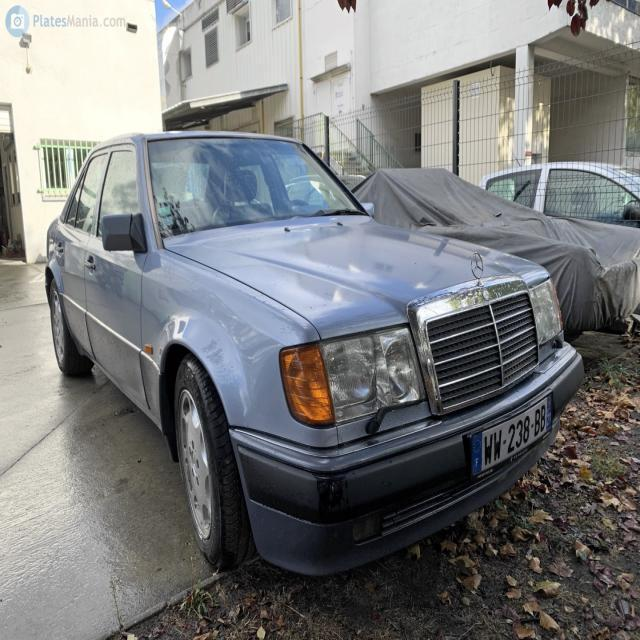EU: (469, 391, 556, 479)
France: (469, 434, 483, 476)
